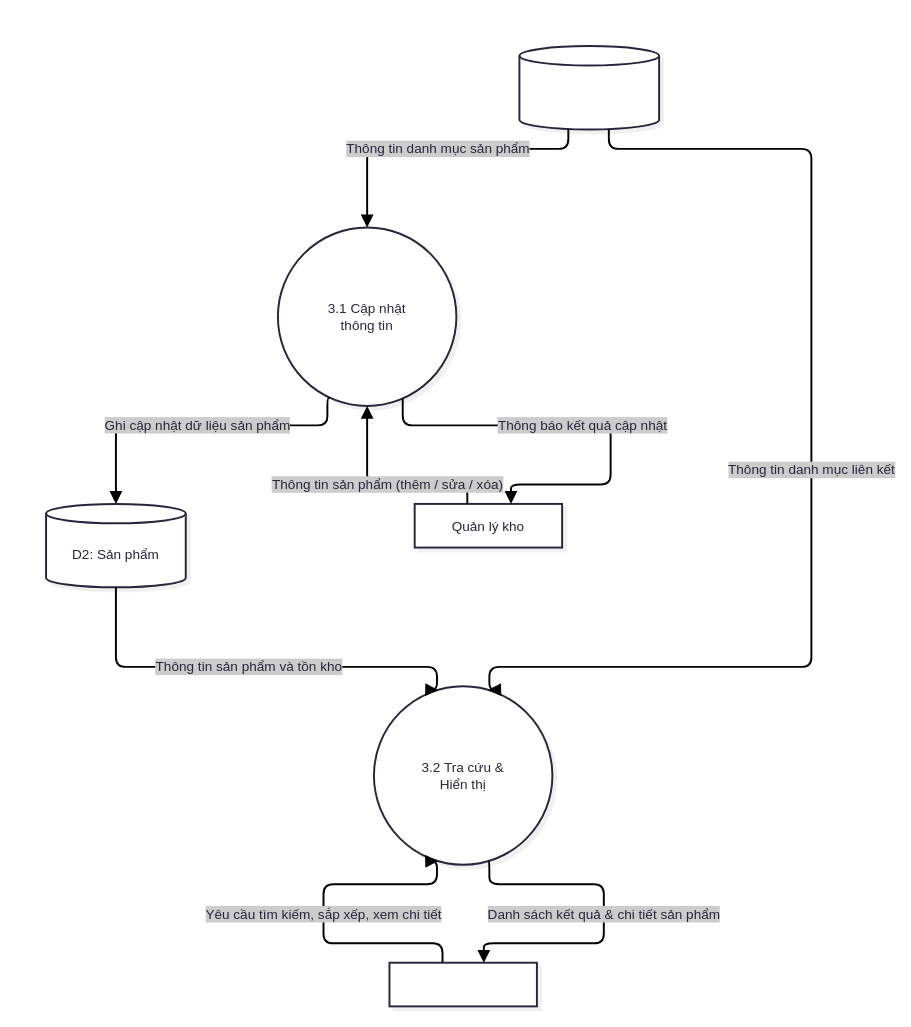
Image size: 911x1027. Some labels were removed from this diagram. Here are the shapes that lost their labels. From the top down, the centre of each, then its label:
At point (590, 89): "D1: Danh mục sản phẩm".
At point (464, 986): "Nhân viên kho".
